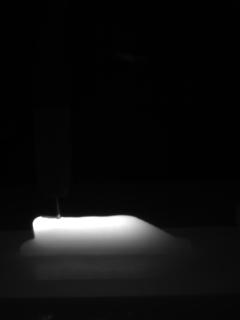tip_wire_left: (40, 192, 60, 218)
tip_wire_right: (58, 191, 70, 218)
